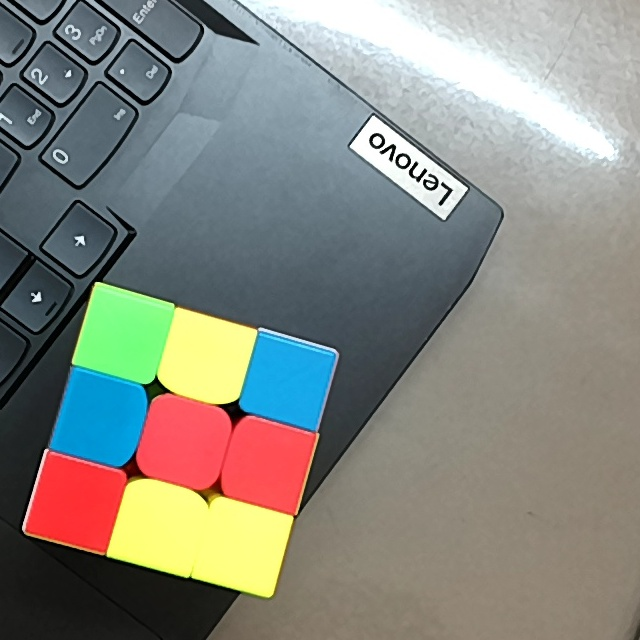tile: (42, 470, 108, 535), (70, 385, 133, 451), (152, 410, 218, 472), (92, 305, 158, 366), (257, 350, 320, 413), (235, 432, 298, 495), (128, 497, 191, 555), (175, 328, 236, 387), (213, 516, 274, 575)
